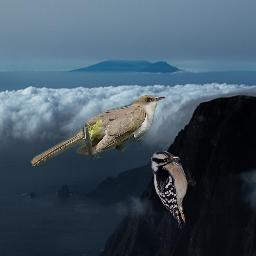Cuckoo: (30, 94, 165, 166)
Woodpecker: (151, 151, 196, 229)
